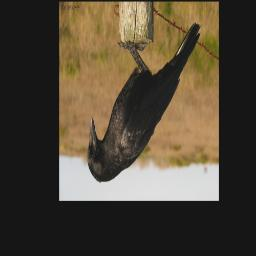Crow: (87, 22, 202, 183)
